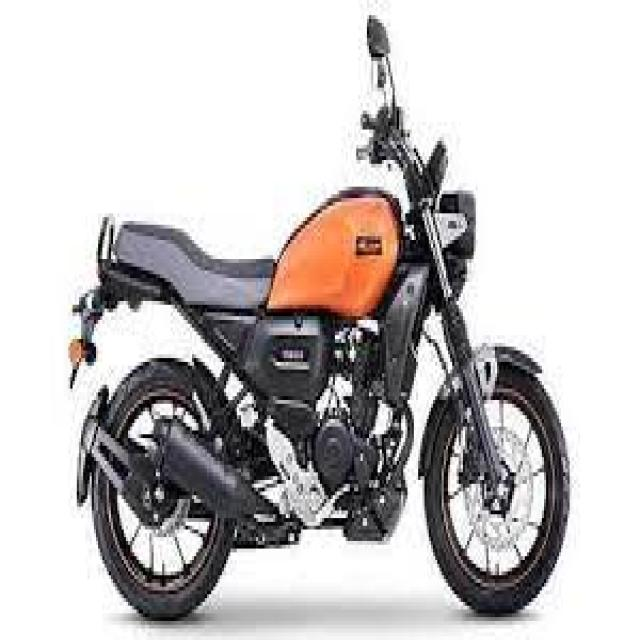MOTORCYCLE: (68, 8, 577, 626)
